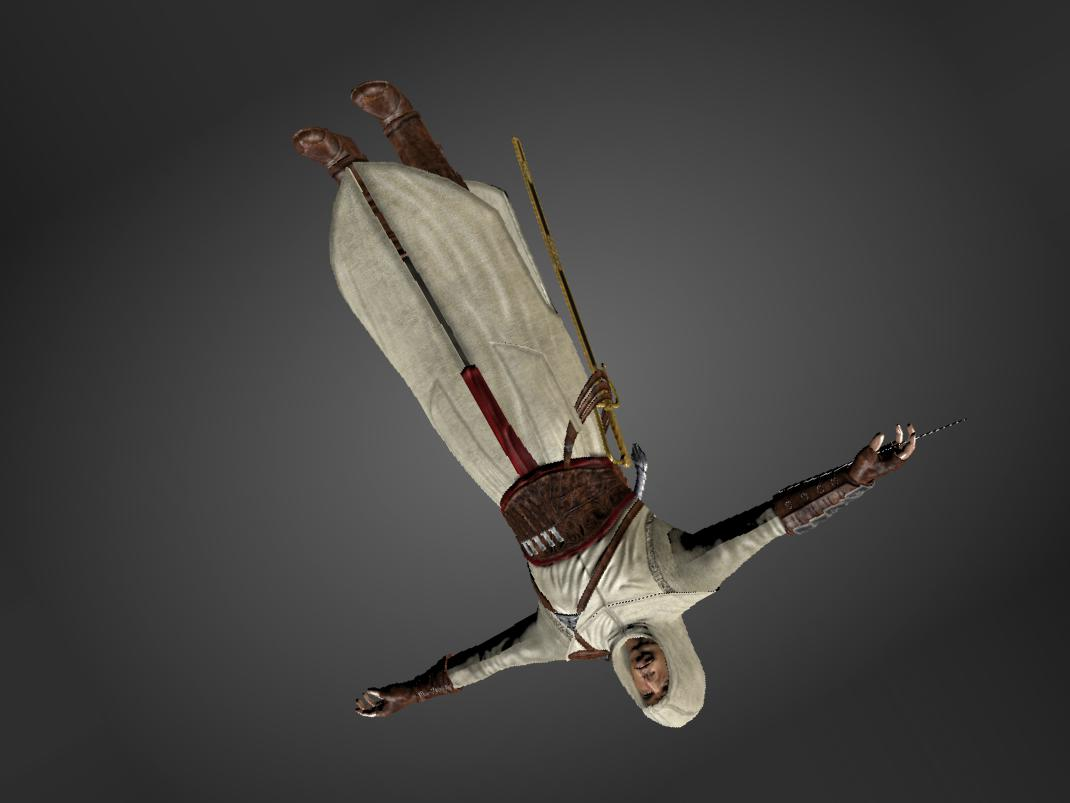clip: (563, 397, 590, 445)
